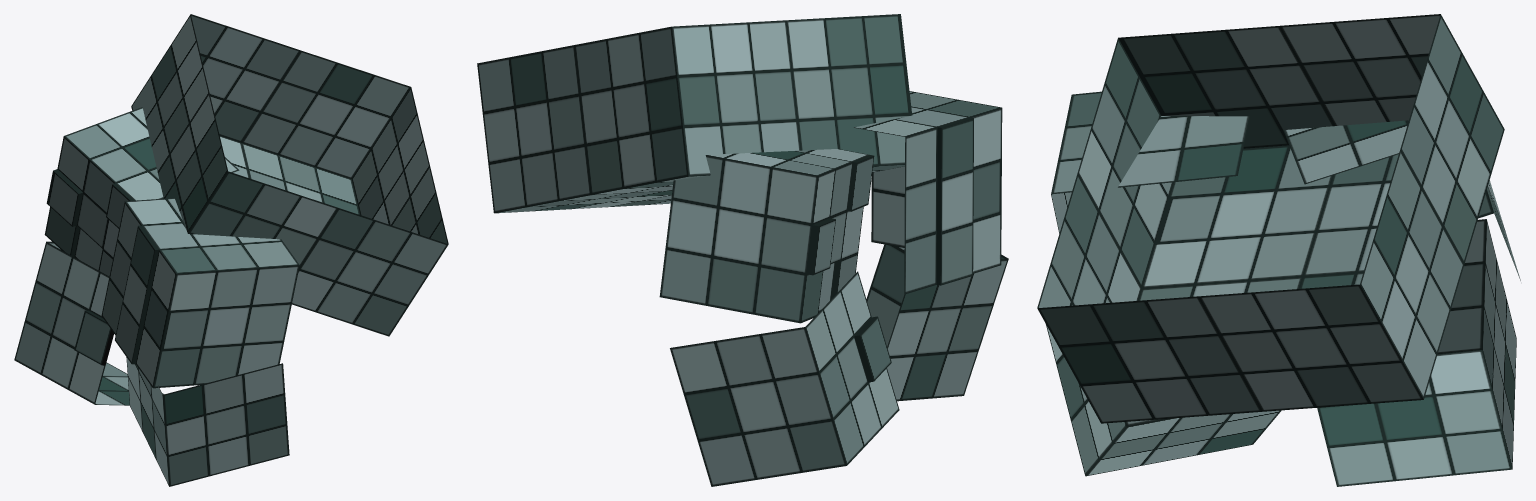
Rendered from m_bricks_cracked.glb.
The picture shows the model from 3 angles, left to right: view 1: azimuth 30°, elevation 25°; view 2: azimuth 150°, elevation 25°; view 3: azimuth 270°, elevation 25°; orthographic projection. The views are drawn at different scales.
Parts seen in each view (by area): view 1: M_BricksCracked; view 2: M_BricksCracked; view 3: M_BricksCracked.
Boxes of the visible parts, x1,y1,x2,y2 form: M_BricksCracked: (14,14,448,486); M_BricksCracked: (477,14,1008,486); M_BricksCracked: (1037,14,1520,486).
Bounding box in the file's own units: 3.01 × 2.91 × 2.54.
1 material, 1 textured.
